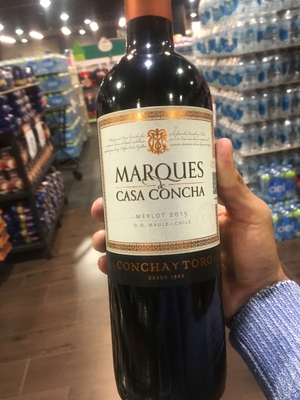marques de casa concha merlot: (98, 4, 247, 400)
